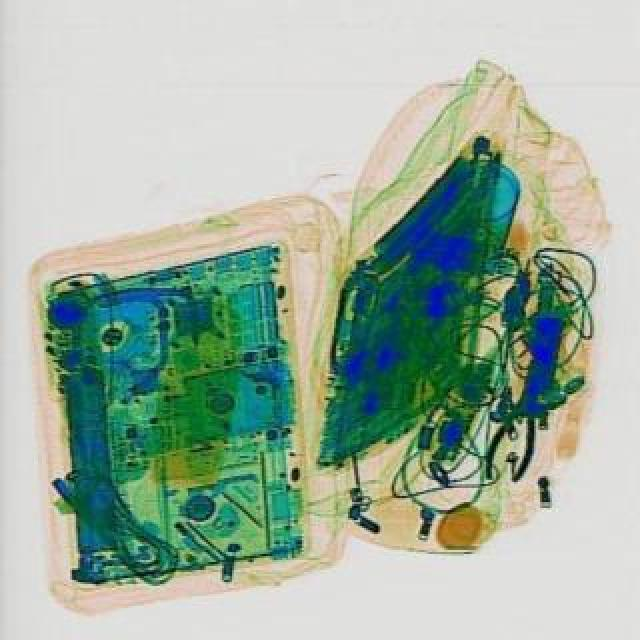wrench: (474, 350, 562, 486)
